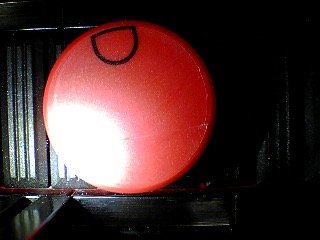MIPO1: (43, 20, 215, 194)
